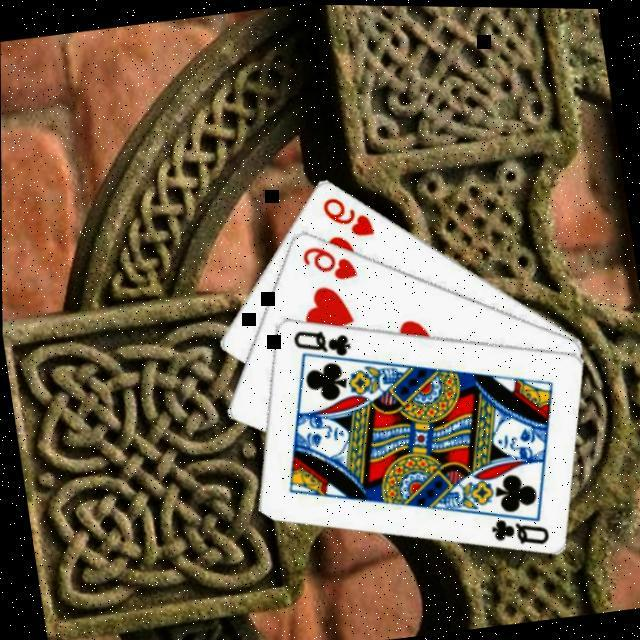6H: (298, 238, 361, 289)
9H: (318, 189, 378, 245)
QC: (289, 320, 355, 366), (487, 510, 552, 552)
